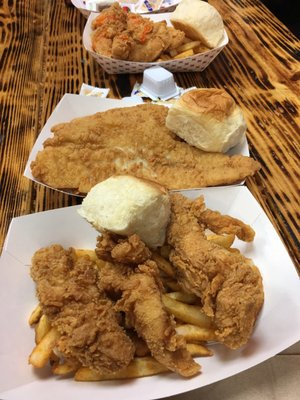sushi: (82, 1, 231, 100)
